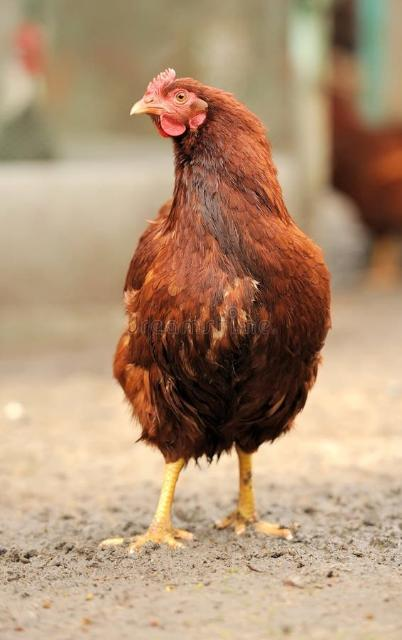Chicken: (96, 67, 334, 554)
